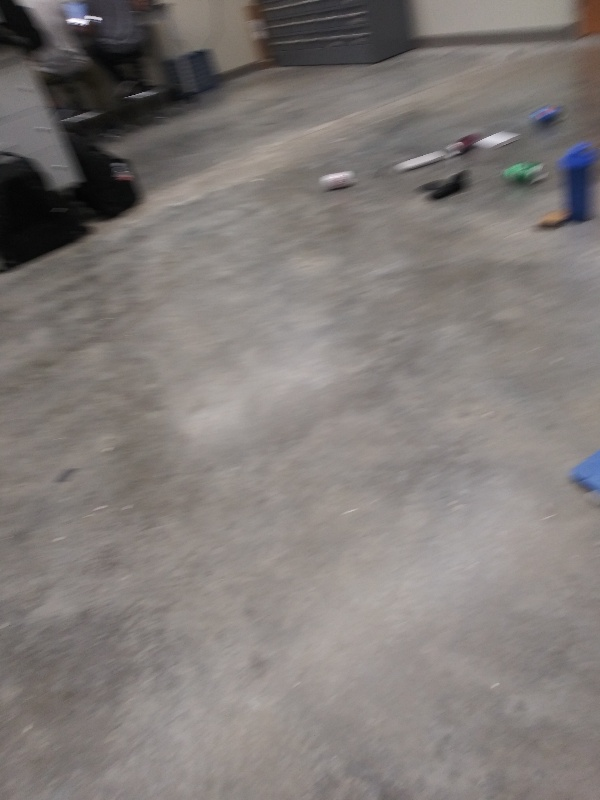can: (498, 159, 551, 188), (524, 104, 572, 125), (445, 133, 480, 160), (318, 170, 357, 192)
